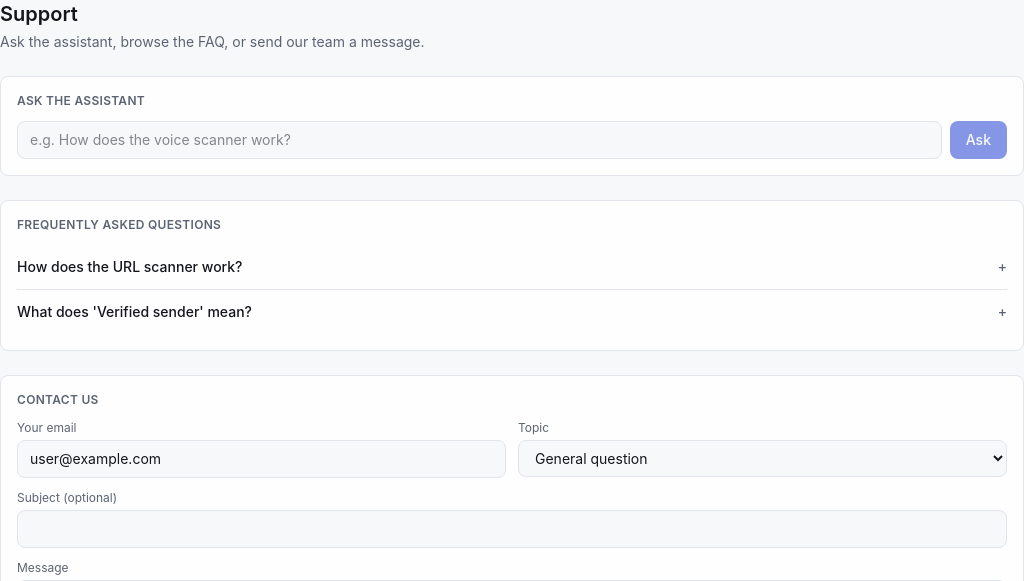
Scenario: the assistant answers a question via /support/ask
This screenshot has width=1024, height=581.
In the field named "ask the assistant": coordinates (479, 140) [17,121,942,159], type "how does voice scanning work"
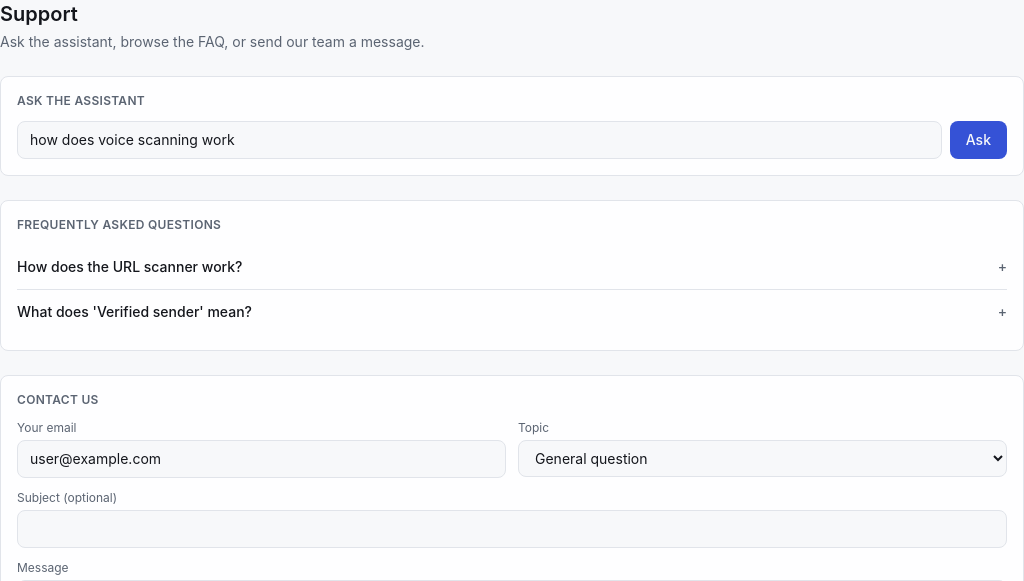
Click the button "Ask": coordinates (978, 140) [950,121,1007,159]
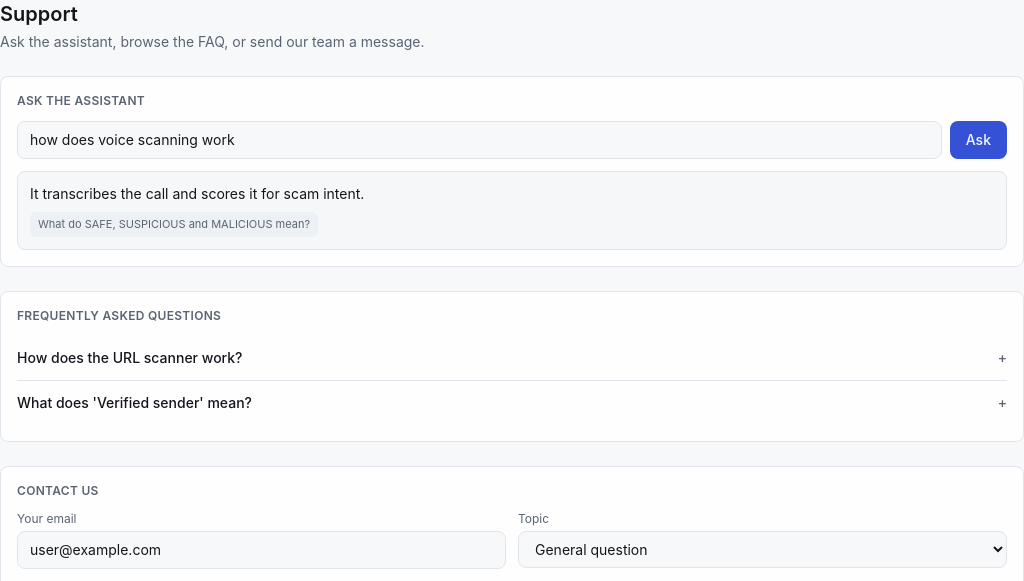
Expected: the text "It transcribes the call and scores it for scam intent." is shown, [30,185,364,202]
